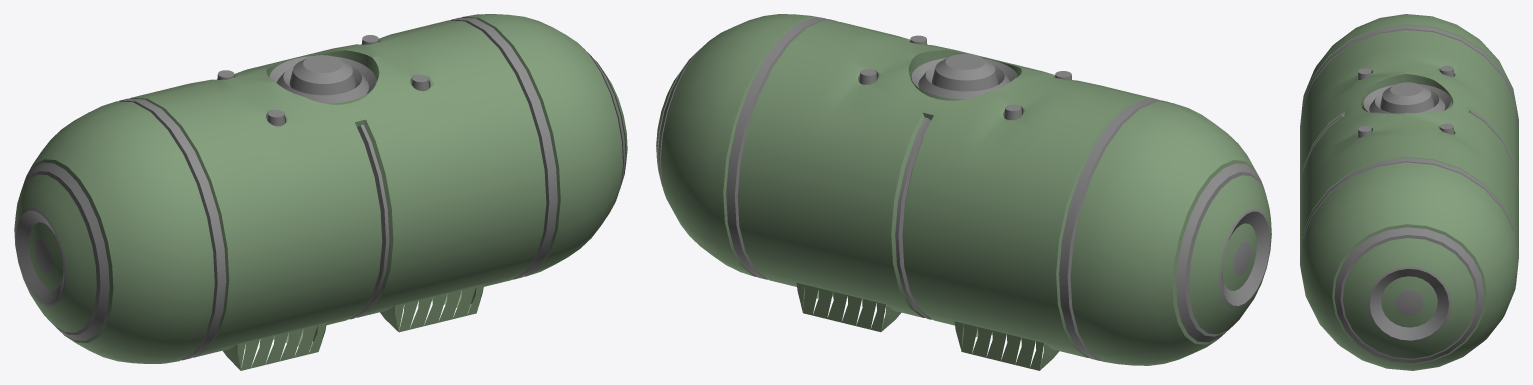
Rendered from capsule_time.fbx.
3 views of the same model, side by side, from view 1: azimuth 30°, elevation 25°; view 2: azimuth 150°, elevation 25°; view 3: azimuth 270°, elevation 25° (orthographic). The views are drawn at different scales.
Visible parts, largest first — view 1: time capsule; view 2: time capsule; view 3: time capsule.
Part boxes in pixels (x1,y1,x2,y2): time capsule: (14, 14, 627, 370); time capsule: (656, 14, 1271, 370); time capsule: (1300, 14, 1518, 370).
Size of the model in its own units: 1 by 0.4308 by 0.4137.
